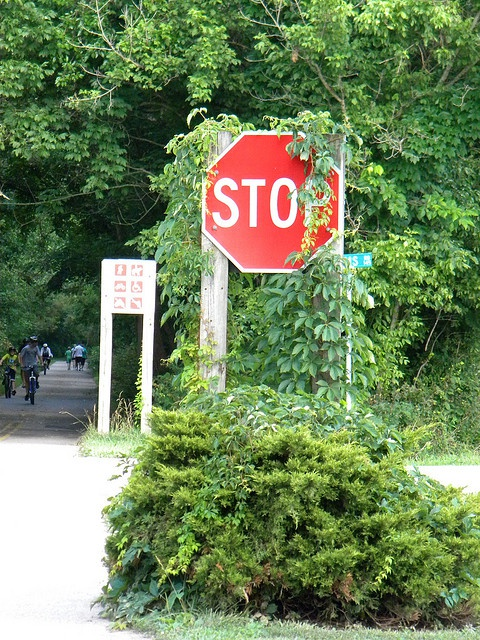non-vehicle: (21, 364, 43, 404), (0, 361, 15, 400), (41, 356, 50, 375), (77, 361, 81, 372)
